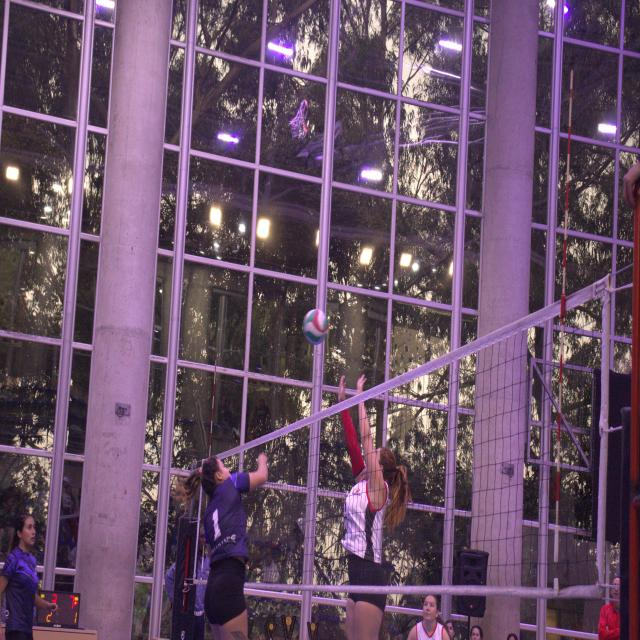volleyball: (303, 309, 328, 345)
